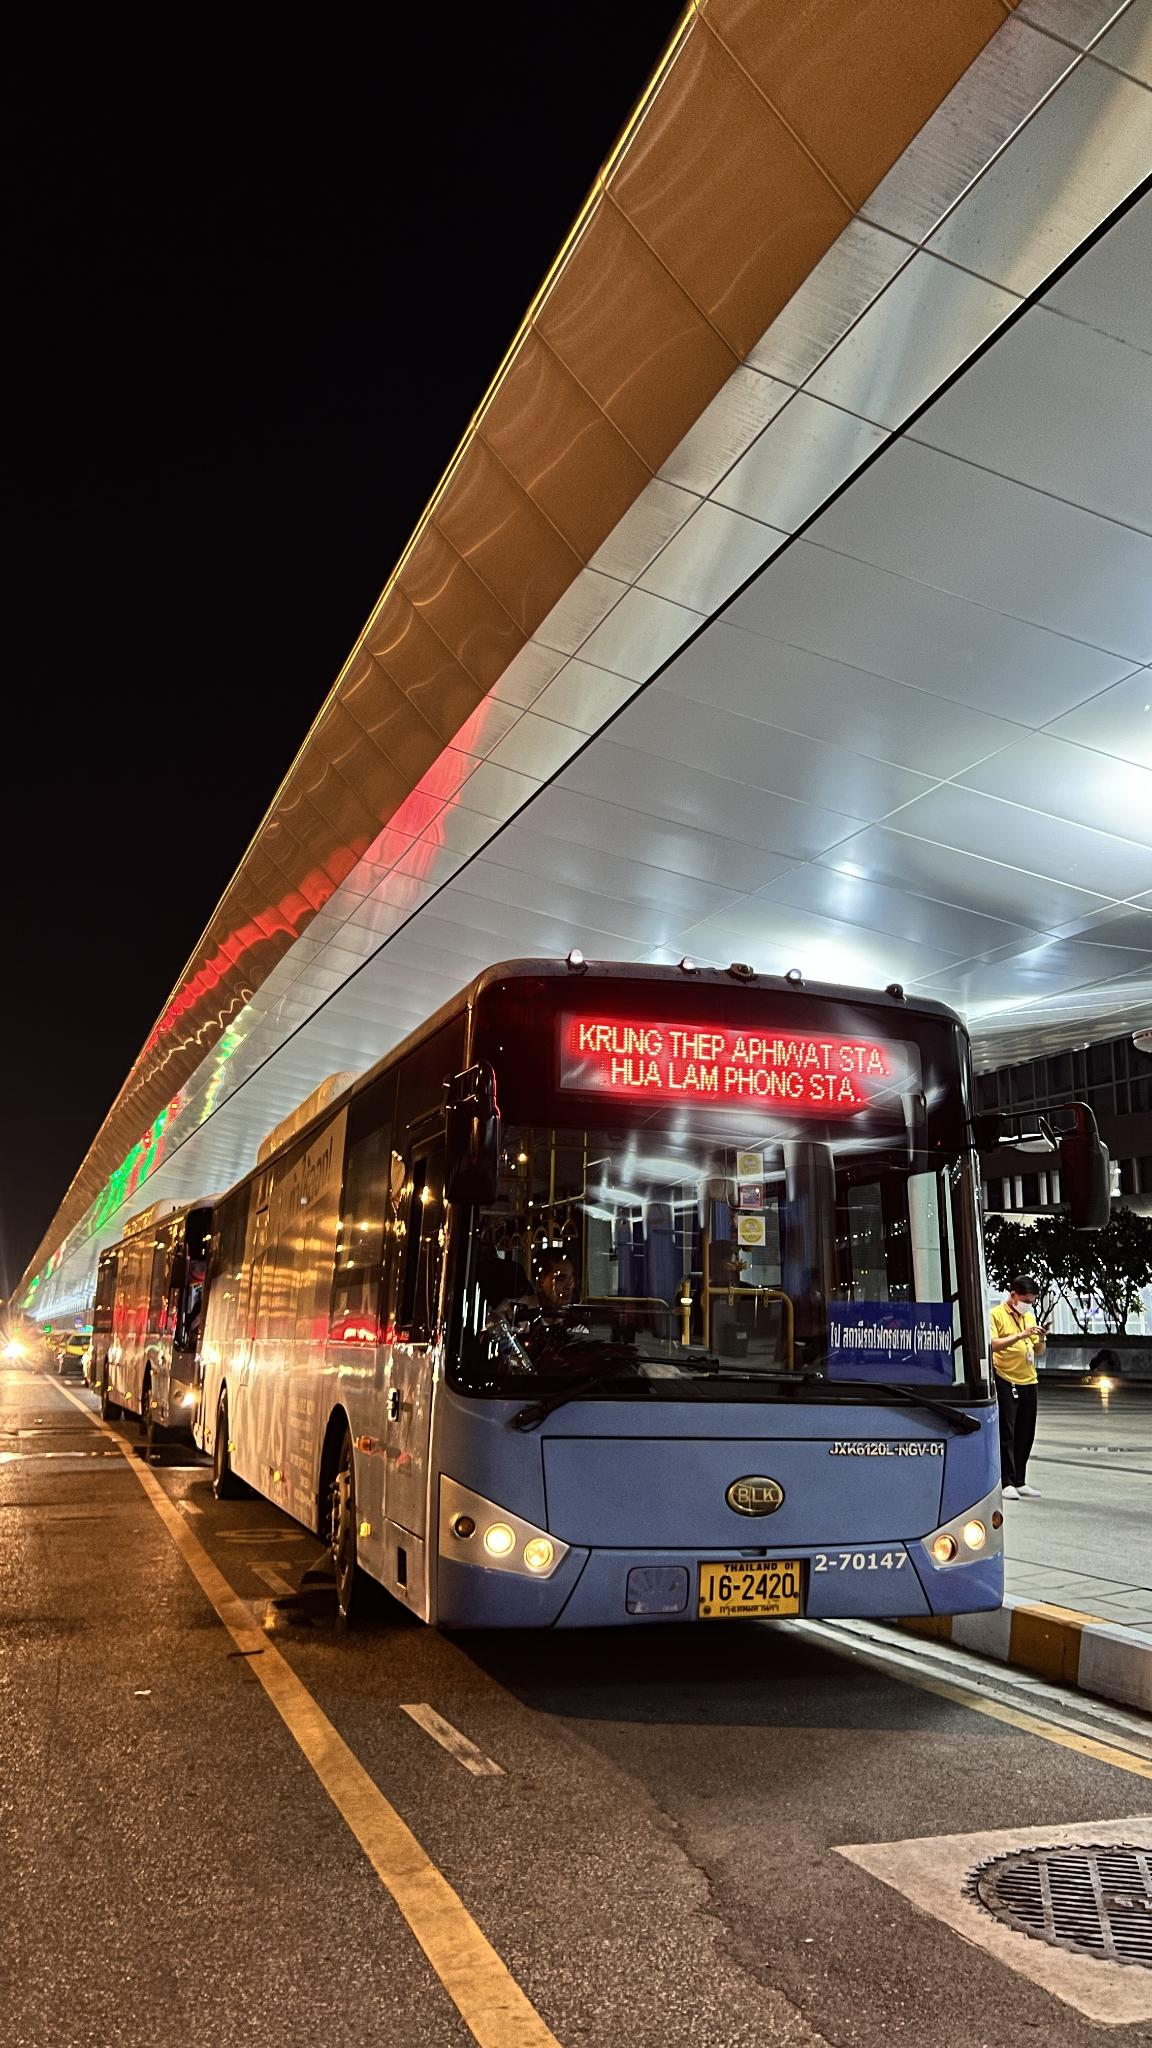BMTA-bus: (201, 964, 1018, 1646)
Bus Side Number: (826, 1304, 956, 1383), (812, 1546, 919, 1574)
Destination Sign: (572, 1011, 896, 1127)
